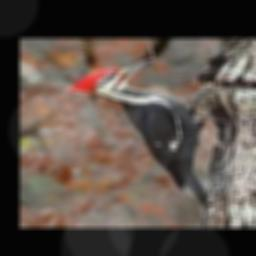Woodpecker: (67, 59, 210, 216)
